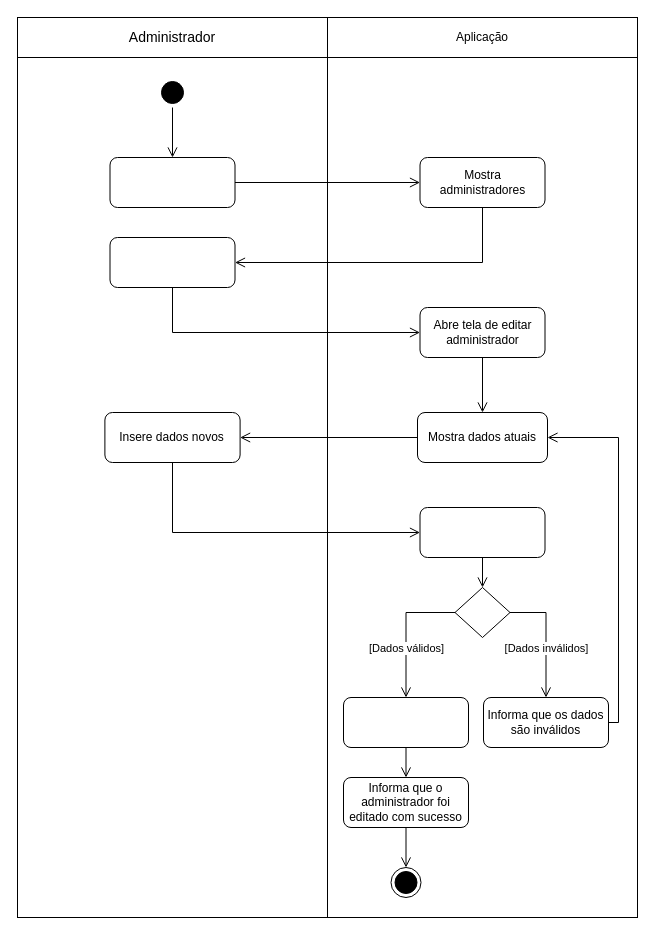
This 655x935 diagram has some shape labels left out. Each missing label, with the box of its shape:
Edita administrador: (342, 696, 468, 748)
Entra na tela de ver administradores: (109, 156, 235, 208)
Seleciona editar administrador: (109, 236, 235, 288)
Valida dados: (419, 506, 545, 558)
